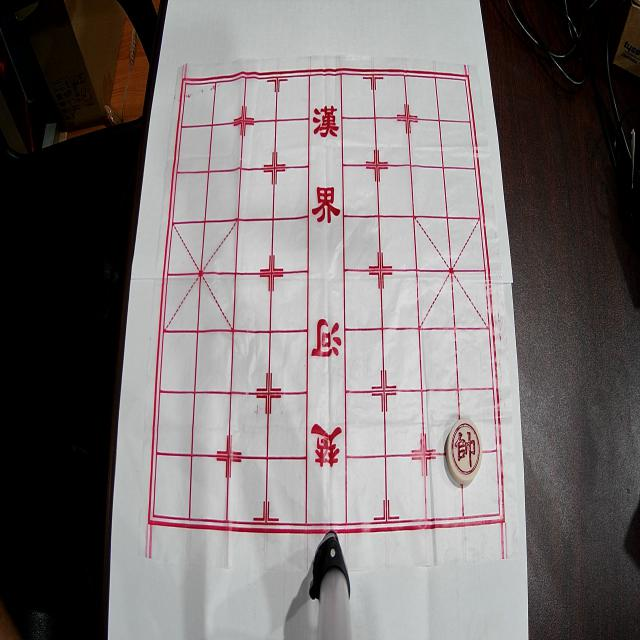red-general: (446, 419, 482, 485)
